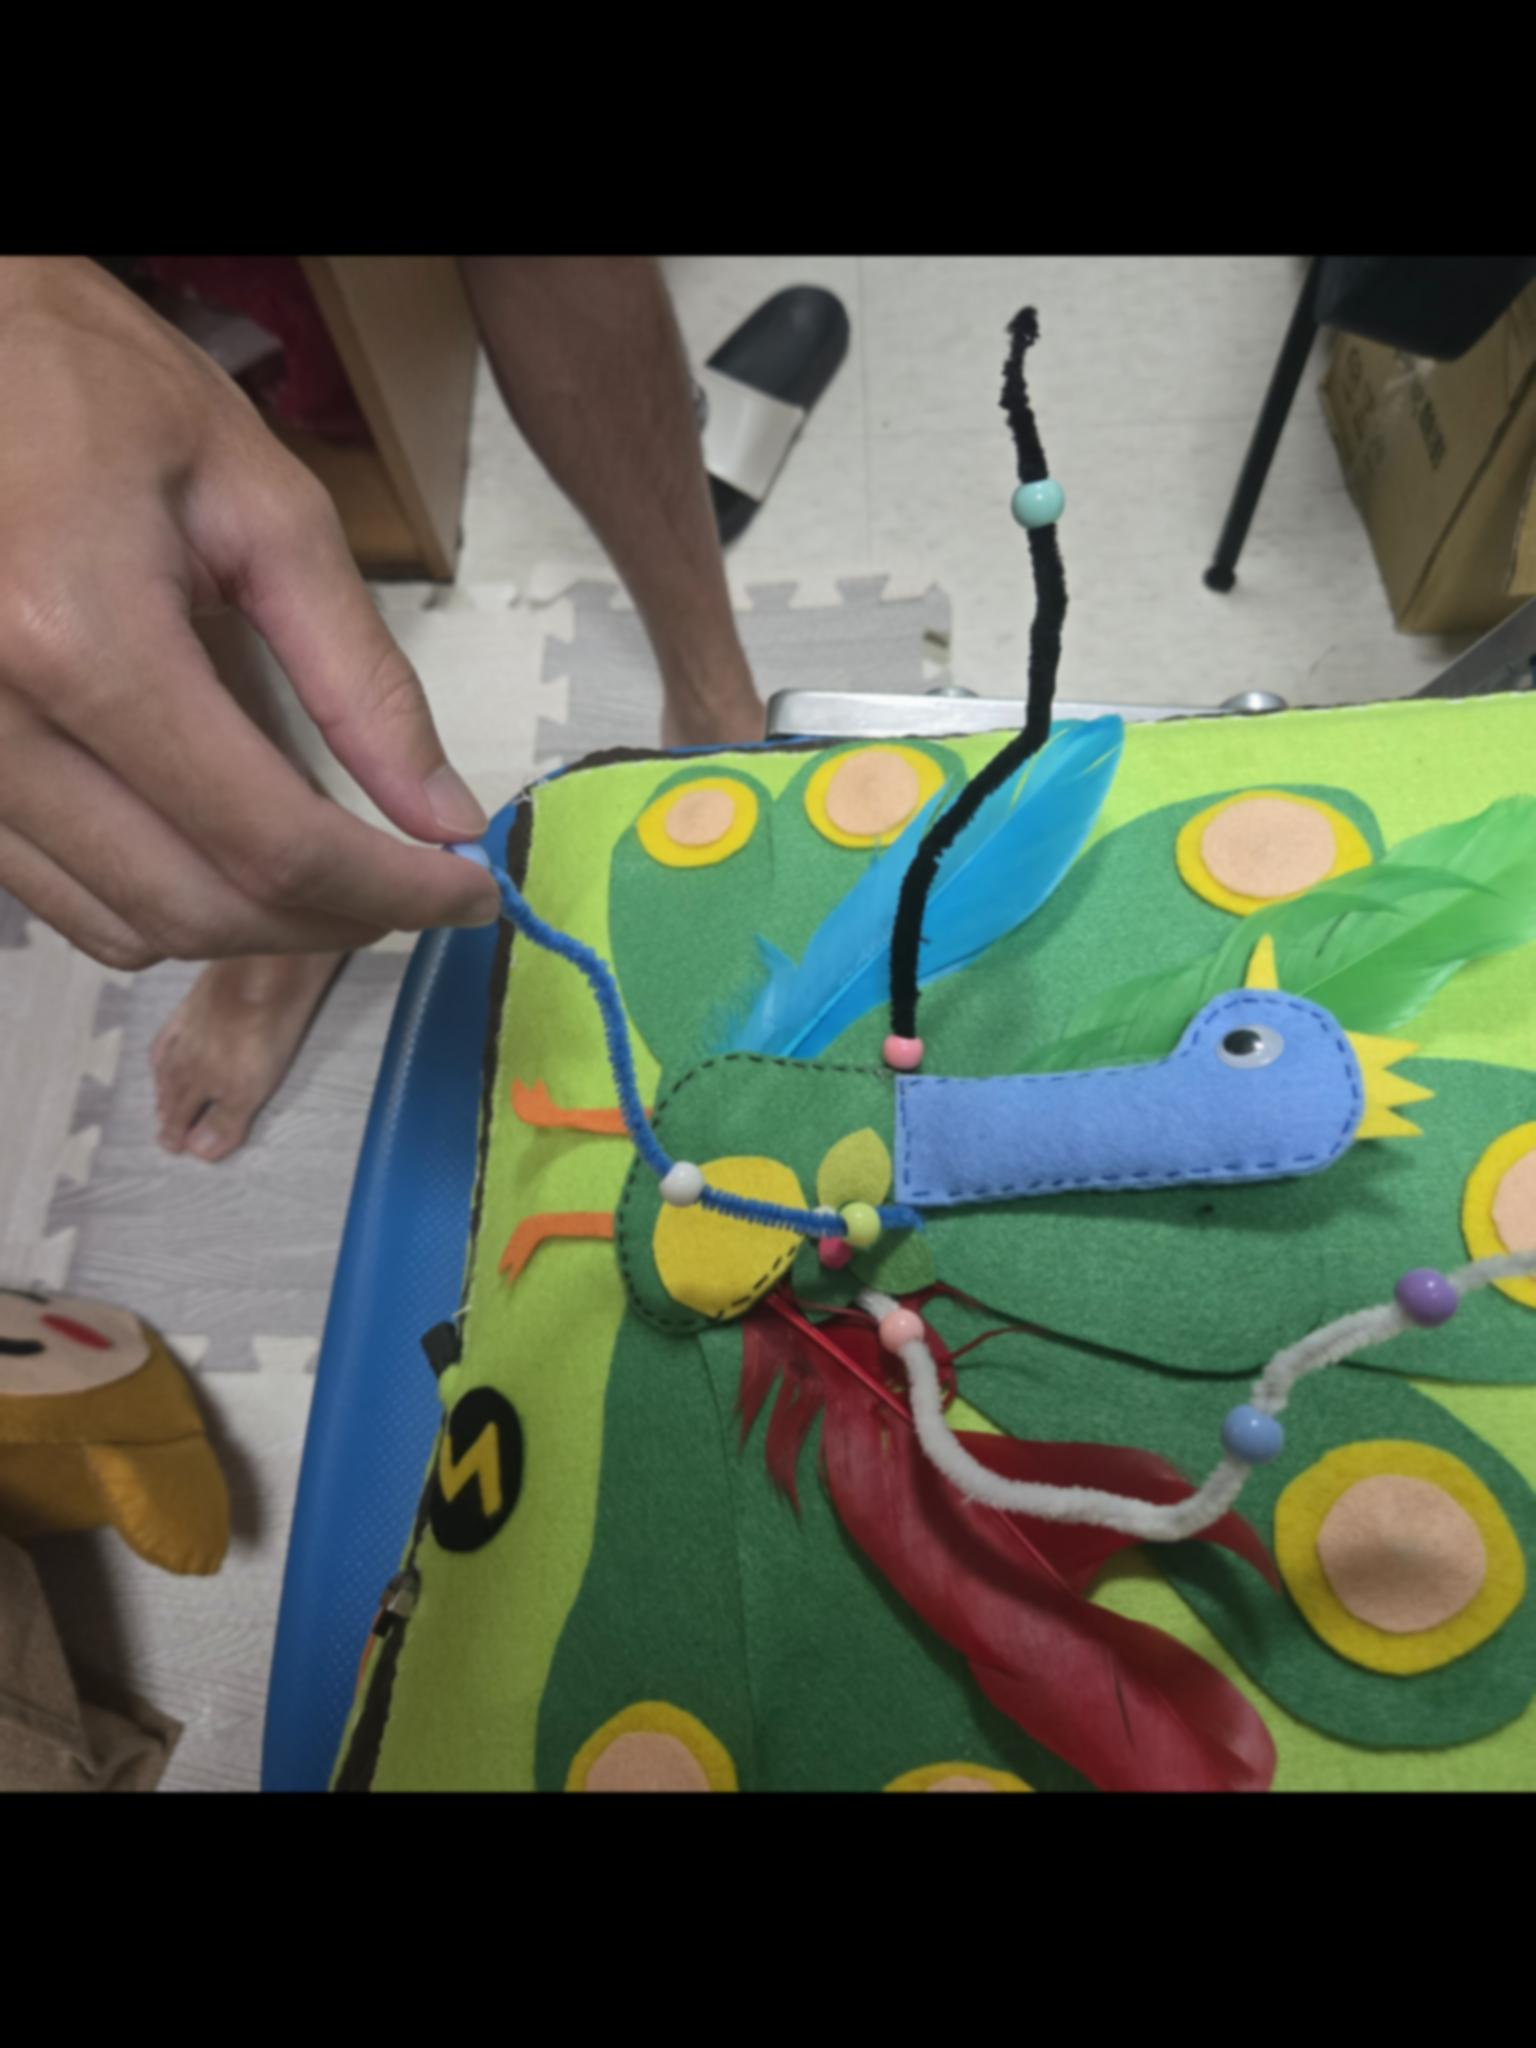bead: (636, 1142, 736, 1224), (987, 450, 1084, 527), (1204, 1398, 1304, 1471), (1384, 1259, 1473, 1330), (857, 1014, 957, 1077), (865, 1297, 931, 1359), (833, 1188, 900, 1250)
